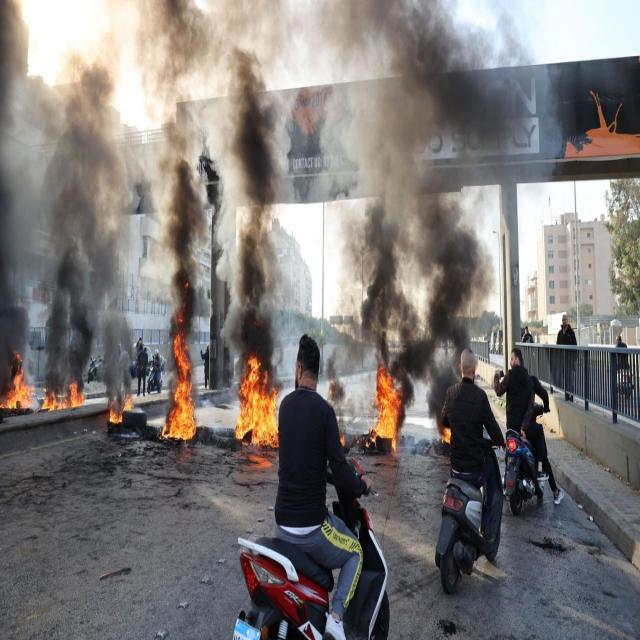Fire: (160, 282, 197, 439), (236, 357, 278, 447), (372, 363, 402, 451), (0, 350, 33, 409), (42, 375, 85, 413), (108, 394, 132, 424), (442, 426, 451, 444)
Smoke: (0, 0, 564, 408)
